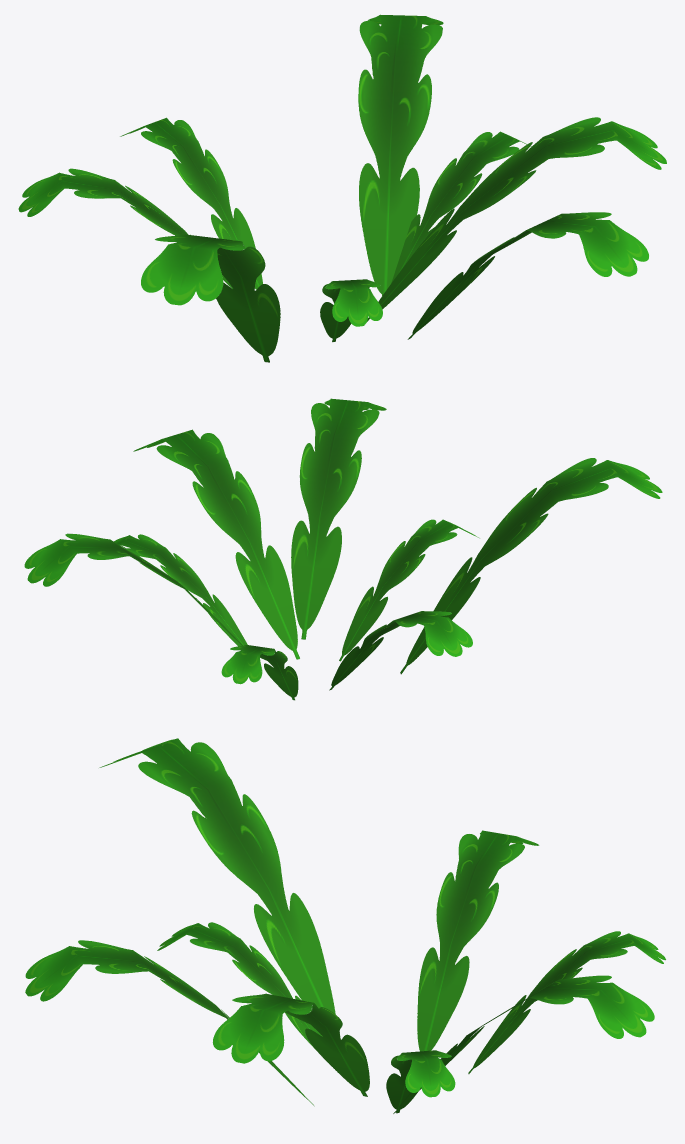
Rendered from Grass03.FBX.
3 views of the same model, one above another, from view 1: azimuth 30°, elevation 25°; view 2: azimuth 150°, elevation 25°; view 3: azimuth 270°, elevation 25° (orthographic). The views are drawn at different scales.
Visible parts, largest first — view 1: Flower01; view 2: Flower01; view 3: Flower01.
Part boxes in pixels (<box>): Flower01: <box>18,14,666,362</box>; Flower01: <box>24,398,662,700</box>; Flower01: <box>25,738,665,1113</box>.
Bounding box in the file's own units: 10.38 × 3.7 × 10.
